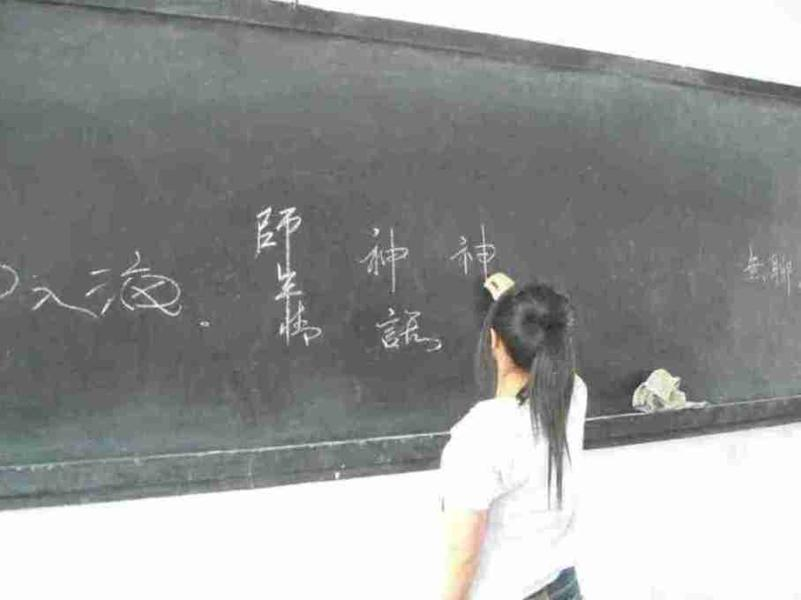person: (435, 279, 588, 598)
